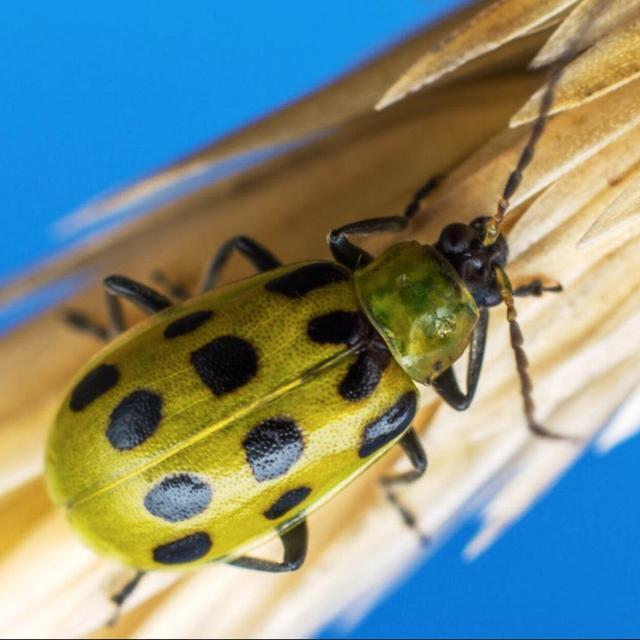gusano_verde: (39, 67, 584, 628)
